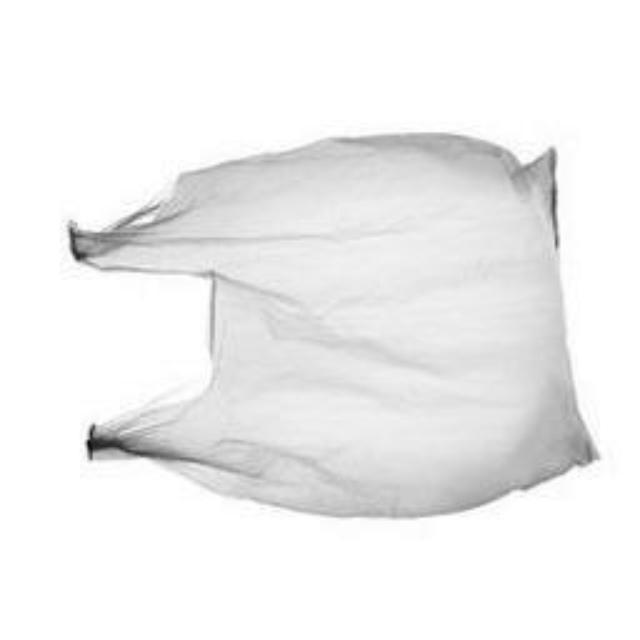Bolsa-de-plastico: (75, 160, 588, 515)
